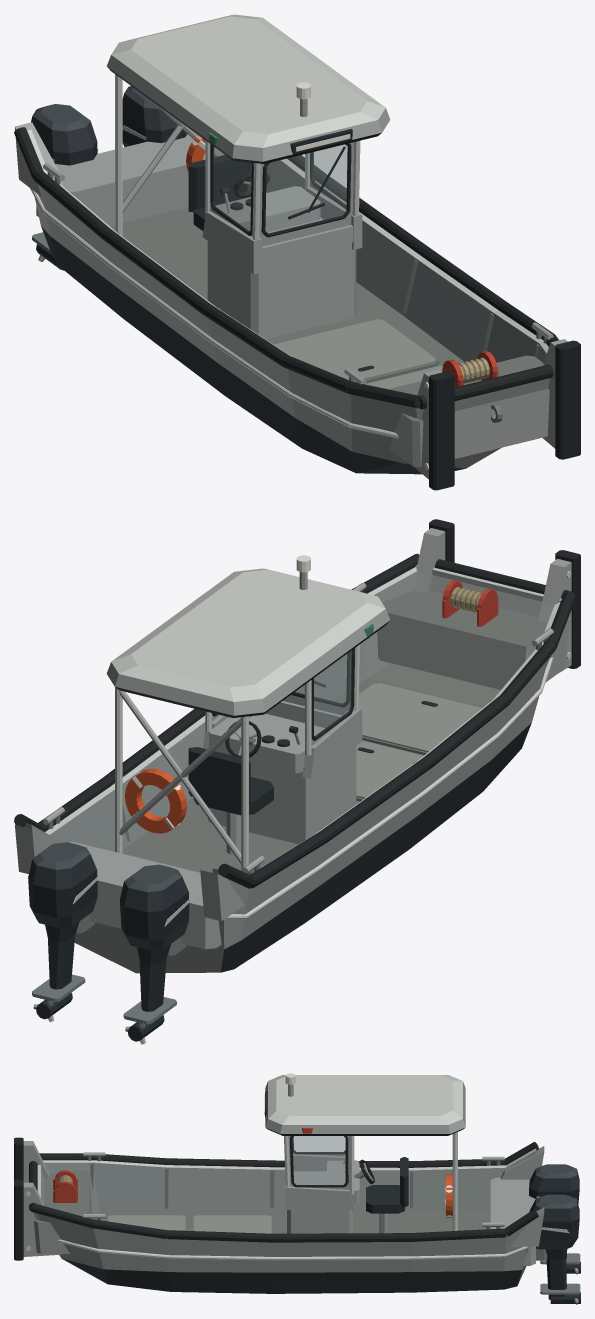
The model's file is work_skiff_mid.glb.
3 views of the same model, one above another, from view 1: azimuth 30°, elevation 25°; view 2: azimuth 150°, elevation 25°; view 3: azimuth 270°, elevation 25° (orthographic). The views are drawn at different scales.
Parts seen in each view (by area): view 1: Welded hull, Aluminum helm shelter, Rub rails and nonskid, Windshield glazing, Helm and fittings, OutboardStarboard, OutboardPort, Mooring gear; view 2: Welded hull, Aluminum helm shelter, Rub rails and nonskid, Helm and fittings, OutboardPort, OutboardStarboard, OutboardStarboard lower unit, OutboardPort lower unit, Mooring gear, Windshield glazing; view 3: Welded hull, Aluminum helm shelter, Rub rails and nonskid, Helm and fittings, Windshield glazing, OutboardPort, OutboardStarboard, OutboardPort lower unit, Mooring gear, OutboardStarboard lower unit.
Part boxes in pixels (box(x1,y1,x2,y2)): Welded hull: box(15, 122, 567, 479); Aluminum helm shelter: box(107, 14, 390, 339); Rub rails and nonskid: box(14, 127, 580, 490); Windshield glazing: box(213, 144, 347, 233); Helm and fittings: box(186, 82, 352, 237); OutboardStarboard: box(31, 104, 98, 165); OutboardPort: box(122, 86, 186, 147); Mooring gear: box(43, 163, 553, 387); Welded hull: box(15, 528, 571, 973); Aluminum helm shelter: box(106, 568, 389, 871); Rub rails and nonskid: box(14, 519, 580, 888); Helm and fittings: box(125, 555, 373, 833); OutboardPort: box(28, 842, 97, 928); OutboardStarboard: box(120, 864, 189, 950); OutboardStarboard lower unit: box(123, 944, 176, 1044); OutboardPort lower unit: box(32, 921, 85, 1022); Mooring gear: box(43, 580, 553, 874); Windshield glazing: box(295, 650, 351, 735); Welded hull: box(23, 1141, 544, 1293); Aluminum helm shelter: box(265, 1075, 465, 1233); Rub rails and nonskid: box(14, 1137, 538, 1260); Helm and fittings: box(264, 1073, 452, 1218); Windshield glazing: box(293, 1136, 345, 1184); OutboardPort: box(529, 1194, 579, 1249); OutboardStarboard: box(529, 1164, 579, 1203); OutboardPort lower unit: box(540, 1249, 580, 1304); Mooring gear: box(53, 1152, 504, 1229); OutboardStarboard lower unit: box(540, 1253, 580, 1274).
Size of the model in its own units: 2.29 by 2.99 by 7.13.
Materials: 3 (3 with a texture image).
